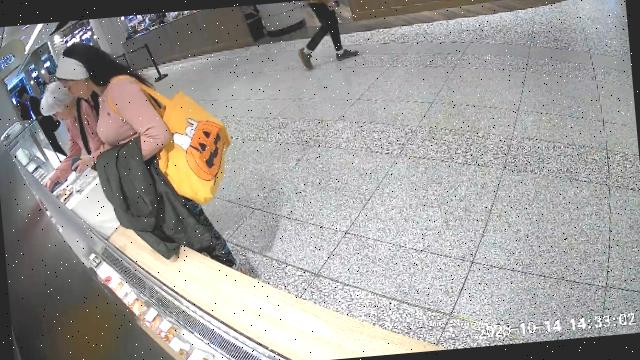sushi-box: (69, 168, 99, 195), (54, 183, 74, 204)
